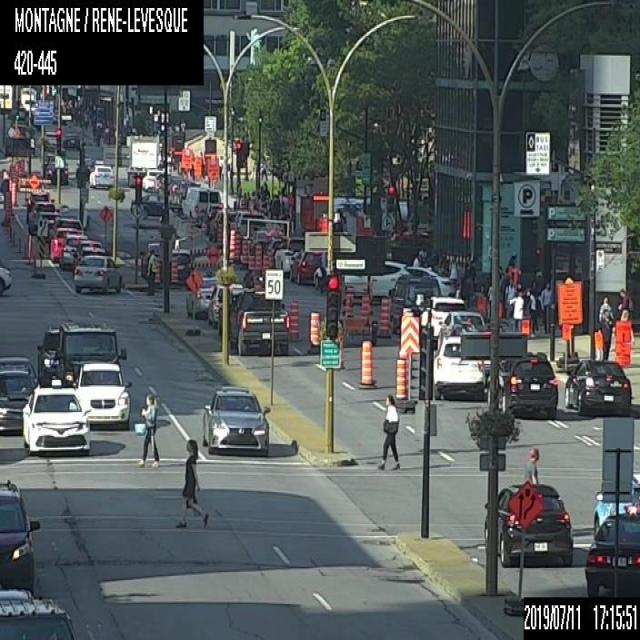construction: (509, 486, 543, 615), (396, 304, 418, 398), (558, 278, 584, 339), (4, 134, 32, 183), (359, 338, 374, 388), (615, 319, 630, 364), (395, 355, 407, 411), (308, 310, 322, 354), (16, 172, 49, 190), (99, 205, 112, 247), (288, 298, 300, 341), (184, 268, 202, 293), (378, 296, 389, 334), (343, 285, 354, 320), (229, 227, 240, 261), (362, 291, 373, 325), (205, 154, 218, 180), (180, 148, 192, 168), (4, 189, 11, 221), (247, 242, 254, 268), (240, 236, 247, 262), (194, 160, 204, 178), (520, 318, 530, 336), (9, 178, 15, 206), (171, 260, 178, 284), (255, 243, 261, 268), (216, 224, 222, 248), (263, 252, 268, 269)
pedestrian: (174, 439, 209, 529), (376, 394, 399, 470), (136, 392, 158, 468), (616, 287, 633, 343), (539, 278, 553, 338), (596, 309, 612, 359), (144, 249, 156, 296), (522, 447, 538, 482), (510, 290, 522, 332), (598, 296, 613, 328), (504, 276, 514, 317), (522, 290, 531, 319), (448, 254, 458, 279), (95, 124, 101, 146)
vehicle: (482, 482, 572, 566), (202, 382, 271, 454), (21, 384, 88, 456), (584, 511, 639, 595), (57, 322, 127, 388), (0, 480, 38, 597), (496, 348, 558, 417), (228, 290, 291, 356), (562, 356, 632, 415), (432, 332, 491, 400), (73, 361, 130, 429), (385, 273, 440, 333), (0, 596, 76, 638), (594, 471, 639, 536), (341, 260, 409, 298), (0, 368, 34, 432), (74, 254, 124, 293), (418, 296, 465, 335), (436, 310, 484, 348), (206, 282, 242, 329), (403, 265, 455, 297), (182, 186, 224, 222), (186, 276, 219, 319), (35, 325, 58, 385), (288, 248, 326, 284), (160, 248, 192, 284), (72, 238, 102, 276), (274, 234, 304, 272), (48, 218, 87, 246), (50, 227, 81, 262), (0, 355, 36, 385), (28, 200, 59, 232), (23, 190, 54, 222), (58, 235, 88, 267), (139, 240, 162, 280), (207, 208, 237, 238), (130, 192, 164, 218), (42, 154, 68, 186), (76, 246, 108, 270), (200, 202, 224, 232), (88, 163, 114, 187), (142, 168, 162, 190), (0, 586, 34, 598), (0, 264, 12, 293), (62, 132, 79, 150), (43, 130, 56, 149)
